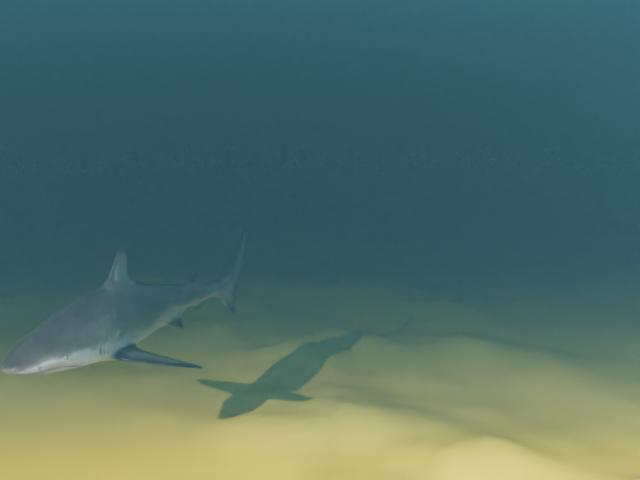Carribean Shark.001: (0, 225, 245, 375)
